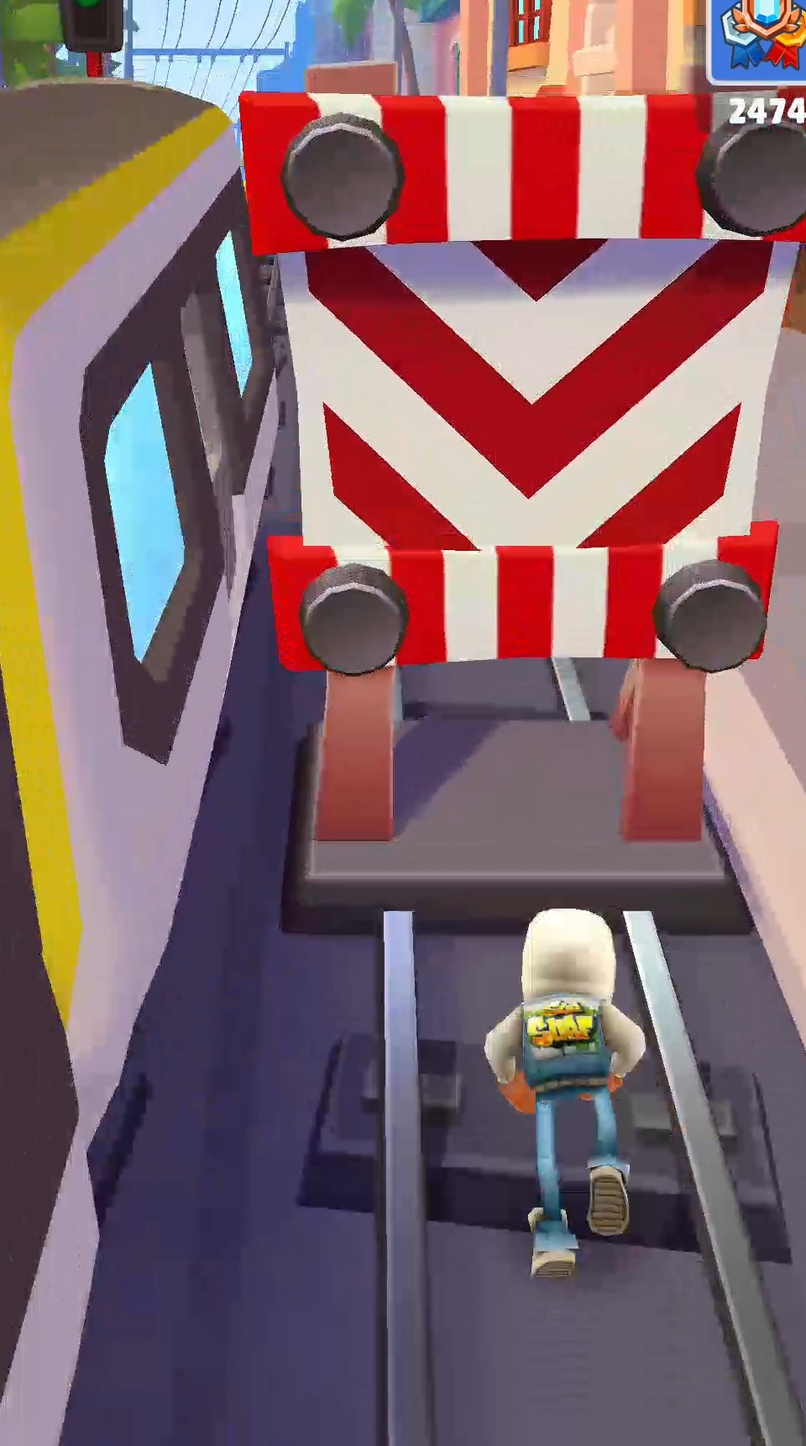jump-barrier: (239, 60, 805, 841)
train: (0, 79, 276, 1445), (466, 283, 481, 299)
